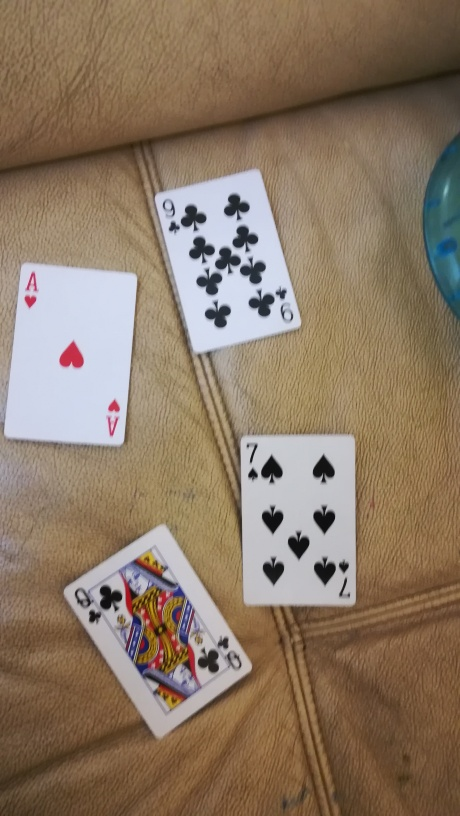ht 7: (236, 426, 367, 613)
hx a: (4, 256, 140, 450)
mh 9: (156, 167, 316, 356)
mh q: (60, 519, 256, 742)
